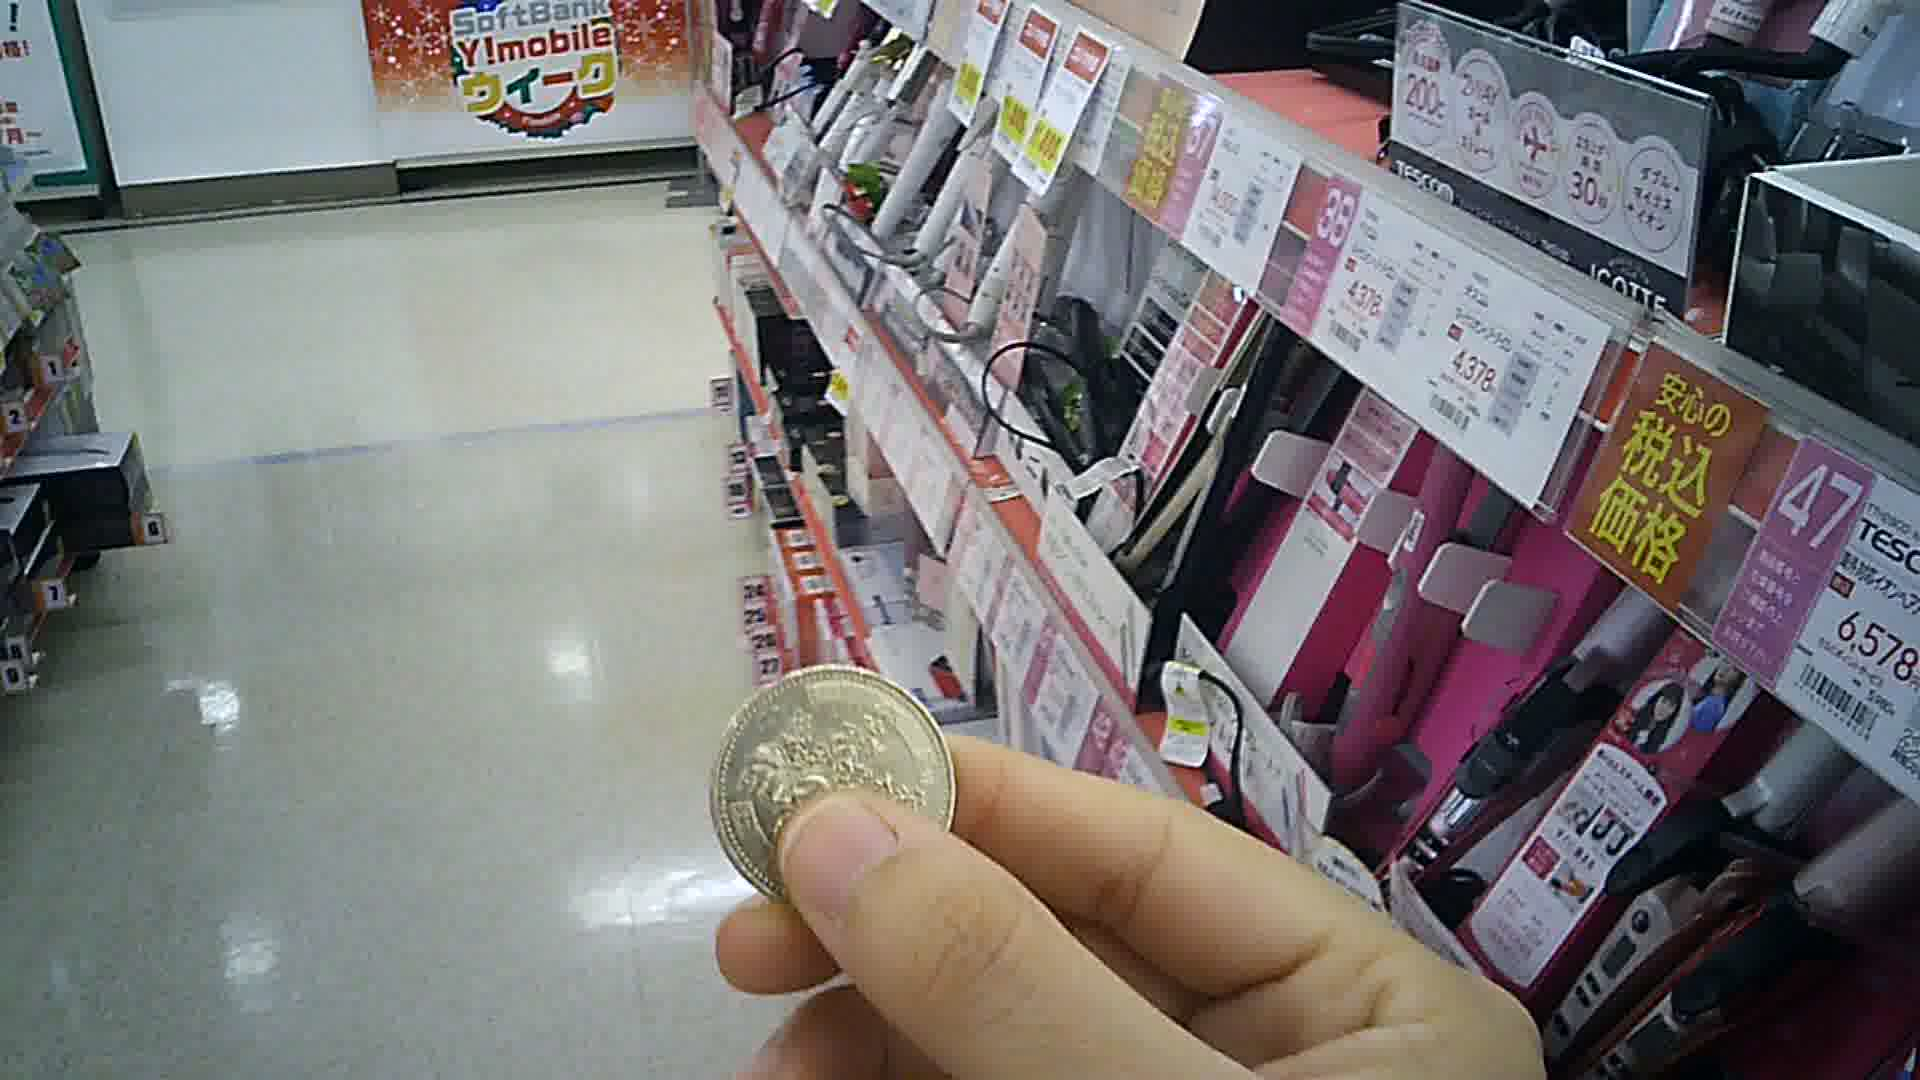500 Yen: (709, 662, 964, 913)
